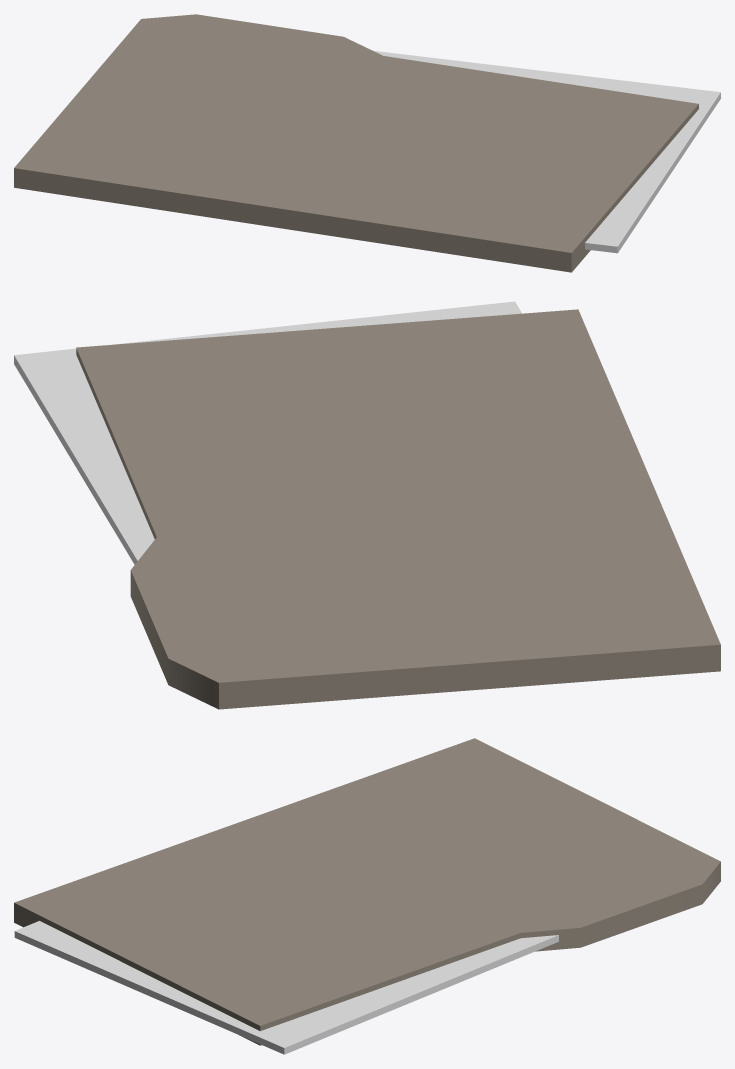
File: RCPD-file.fbx
3 views of the same model, one above another, from view 1: azimuth 30°, elevation 25°; view 2: azimuth 150°, elevation 25°; view 3: azimuth 270°, elevation 25° (orthographic). The views are drawn at different scales.
Visible parts, largest first — view 1: file; view 2: file; view 3: file.
Part boxes in pixels (box(x1,y1,x2,y2)): file: box(14, 14, 720, 272); file: box(14, 301, 720, 709); file: box(14, 738, 720, 1054).
Bounding box in the file's own units: 1.26 × 0.0385 × 1.23.
